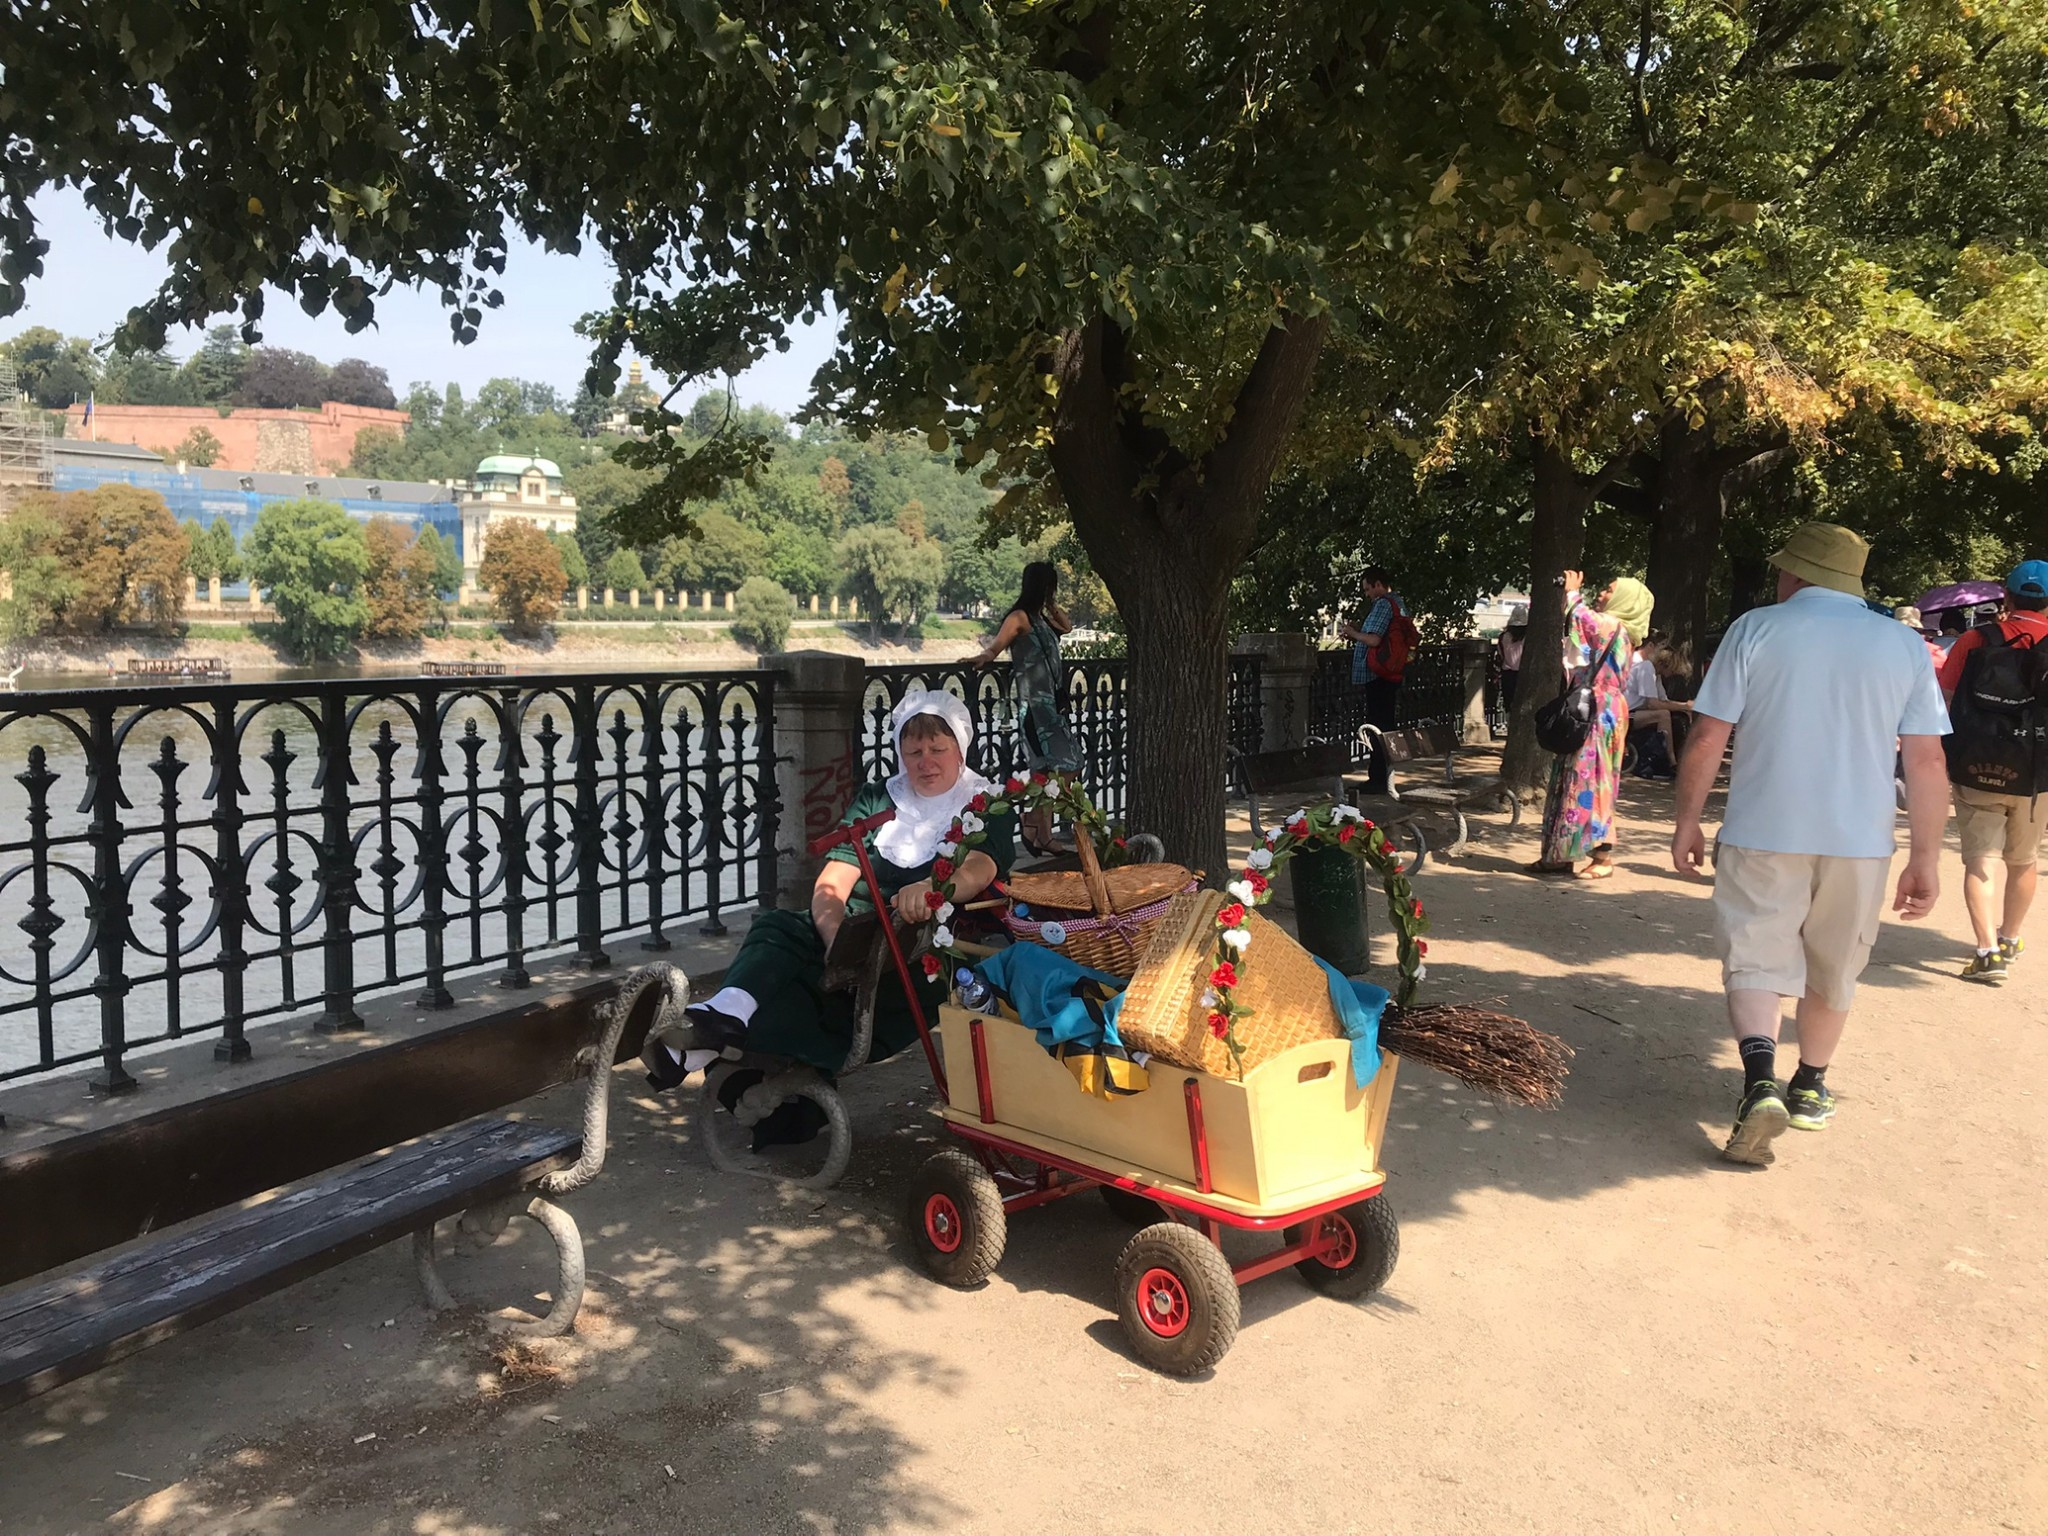people: (1728, 516, 1872, 1181), (810, 681, 993, 1081), (1966, 558, 2048, 996), (1575, 563, 1654, 899), (1004, 560, 1099, 828), (1343, 566, 1407, 737)
